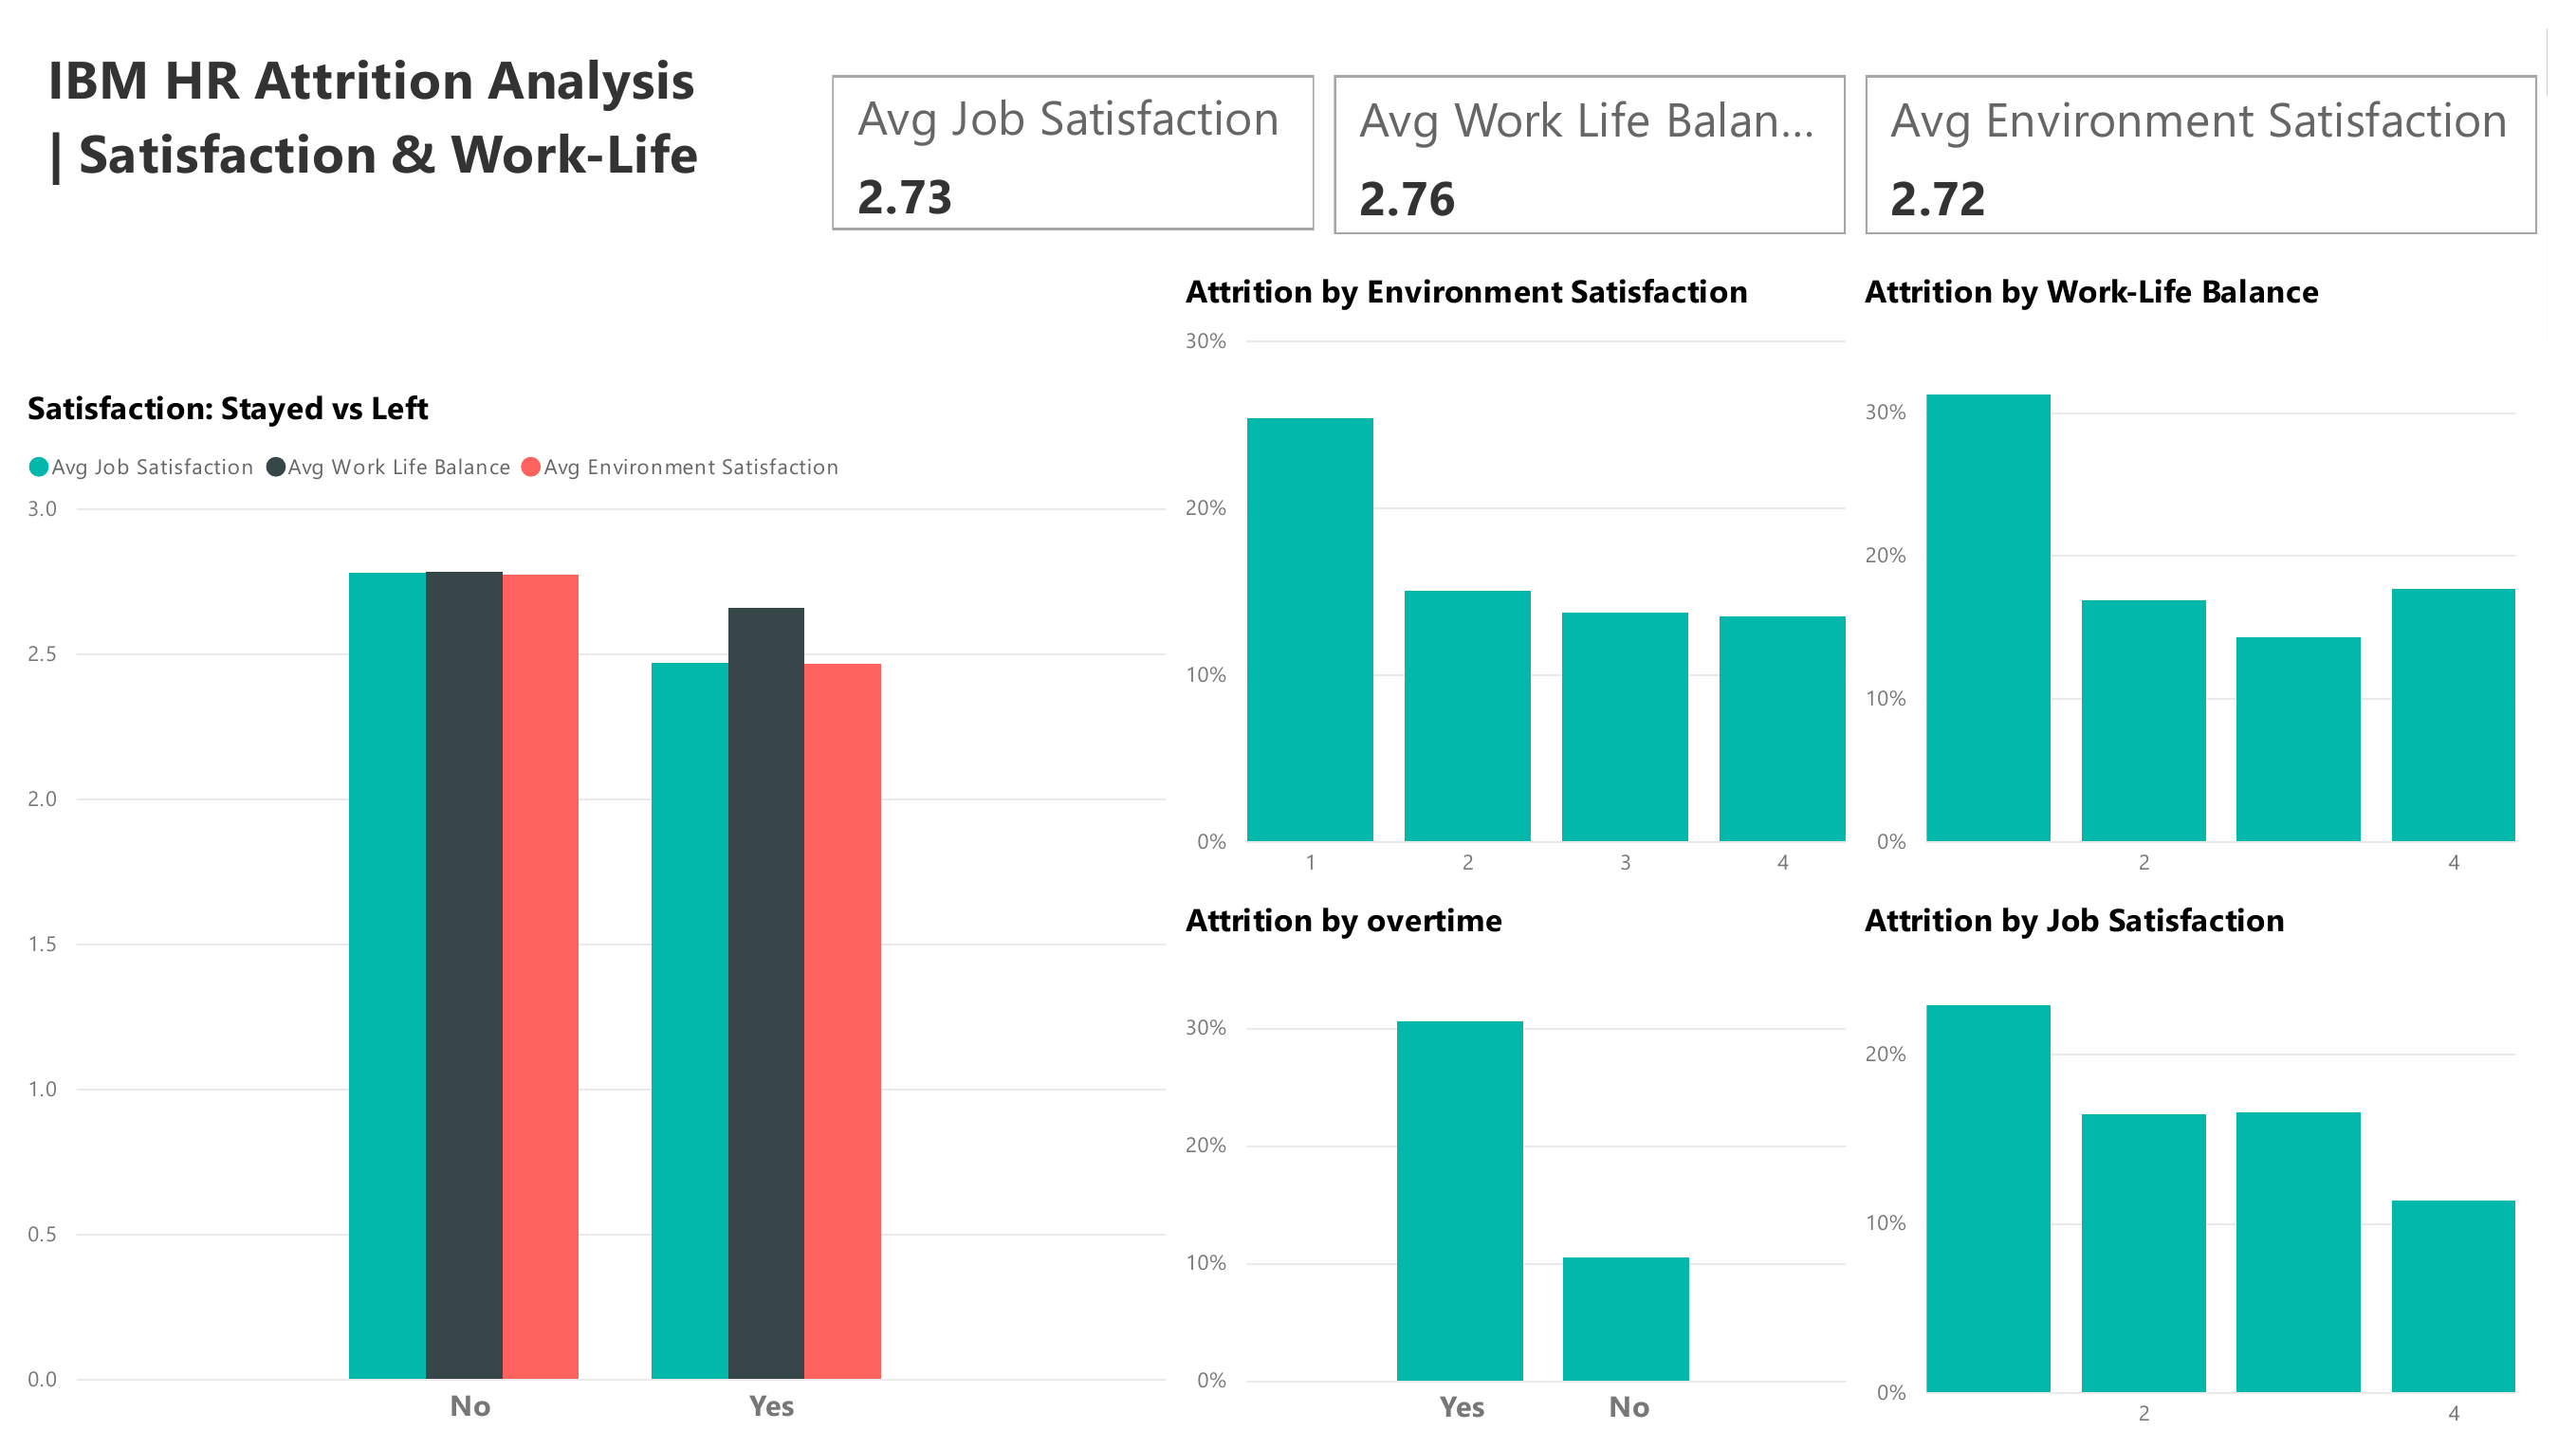

This screenshot's page, from the dashboard's own definition file:
{"tool":"powerbi","page":{"name":"Page 4","canvas":[1280,720],"ordinal":3},"visuals":[{"type":"clusteredColumnChart","title":"Attrition by overtime","fields":{"Category":["public employment.overtime"],"Y":["public attrition.Attrition Rate %"]},"box":[585.6,440,344.8,279.4],"z":0},{"type":"clusteredColumnChart","title":"Attrition by Job Satisfaction","fields":{"Category":["public satisfaction.jobsatisfaction"],"Y":["public attrition.Attrition Rate %"]},"box":[930.5,440,338.9,279.4],"z":1000},{"type":"clusteredColumnChart","title":"Attrition by Work-Life Balance","fields":{"Category":["public satisfaction.worklifebalance"],"Y":["public attrition.Attrition Rate %"]},"box":[930.5,121.9,338.9,318.1],"z":2000},{"type":"clusteredColumnChart","title":"Attrition by Environment Satisfaction","fields":{"Category":["public satisfaction.environmentsatisfaction"],"Y":["public attrition.Attrition Rate %"]},"box":[585.6,121.9,344.8,318.1],"z":3000},{"type":"clusteredColumnChart","title":"Satisfaction: Stayed vs Left","fields":{"Category":["public attrition.attrition"],"Y":["public satisfaction.Avg Job Satisfaction","public satisfaction.Avg Work Life Balance","public satisfaction.Avg Environment Satisfaction"]},"box":[0,181.3,585.6,538.1],"z":4000},{"type":"cardVisual","fields":{"Data":["public satisfaction.Avg Job Satisfaction"]},"box":[407.3,19.3,254.2,87.7],"z":5000},{"type":"cardVisual","fields":{"Data":["public satisfaction.Avg Work Life Balance"]},"box":[661.4,19.3,269,89.2],"z":6000},{"type":"cardVisual","fields":{"Data":["public satisfaction.Avg Environment Satisfaction"]},"box":[930.5,19.3,349.3,89.2],"z":7000},{"type":"textbox","box":[10.4,1.5,346.3,92.2],"z":9000}]}

Visuals, with their boxes in screenshot pixels (x1, y1, x2, y2), scaled from the page's 1280x720 canvas onto the 2576x1449 screenshot:
"Attrition by overtime" clusteredColumnChart: BBox(1179, 886, 1872, 1448)
"Attrition by Job Satisfaction" clusteredColumnChart: BBox(1872, 886, 2555, 1448)
"Attrition by Work-Life Balance" clusteredColumnChart: BBox(1872, 246, 2555, 886)
"Attrition by Environment Satisfaction" clusteredColumnChart: BBox(1179, 246, 1872, 886)
"Satisfaction: Stayed vs Left" clusteredColumnChart: BBox(0, 365, 1179, 1448)
cardVisual - public satisfaction.Avg Job Satisfaction: BBox(819, 39, 1332, 215)
cardVisual - public satisfaction.Avg Work Life Balance: BBox(1331, 39, 1872, 218)
cardVisual - public satisfaction.Avg Environment Satisfaction: BBox(1872, 39, 2575, 218)
textbox: BBox(21, 3, 718, 189)
